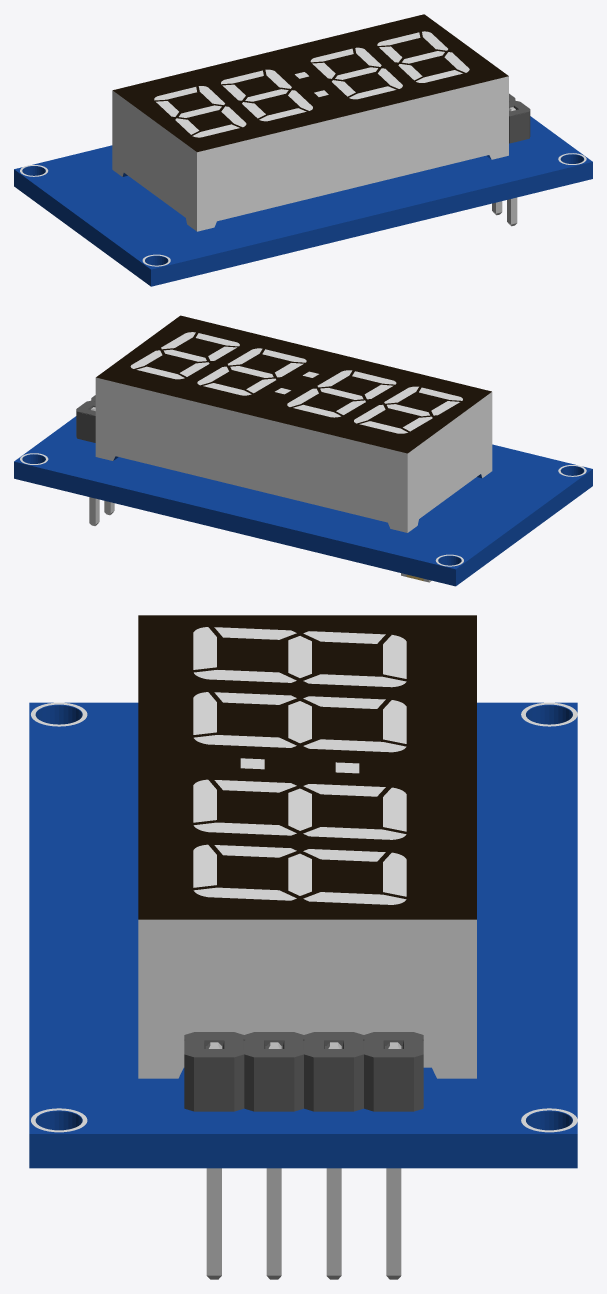
Rendered from est-quis-aperiam-tempore-nostrum-fugiat-aperiam-quaerat.fbx.
The picture shows the model from 3 angles, top to bottom: view 1: azimuth 30°, elevation 25°; view 2: azimuth 150°, elevation 25°; view 3: azimuth 270°, elevation 25°; orthographic projection. The views are drawn at different scales.
Visible parts, largest first — view 1: Cube.006, Text, 879141416 Body.003; view 2: Cube.006, Text, 879141416 Body.003; view 3: Cube.006, 879141416 Body.003, Text, Cube.000.
Boxes of the visible parts, x1,y1,x2,y2 form: Cube.006: [14, 14, 592, 286]; Text: [154, 31, 469, 137]; 879141416 Body.003: [492, 93, 530, 226]; Cube.006: [14, 315, 592, 586]; Text: [130, 332, 462, 433]; 879141416 Body.003: [76, 395, 114, 525]; Cube.006: [29, 615, 577, 1168]; 879141416 Body.003: [184, 1032, 423, 1279]; Text: [193, 627, 406, 904]; Cube.000: [31, 702, 577, 1132].
Size of the model in its own units: 4318 by 1575 by 2321.
